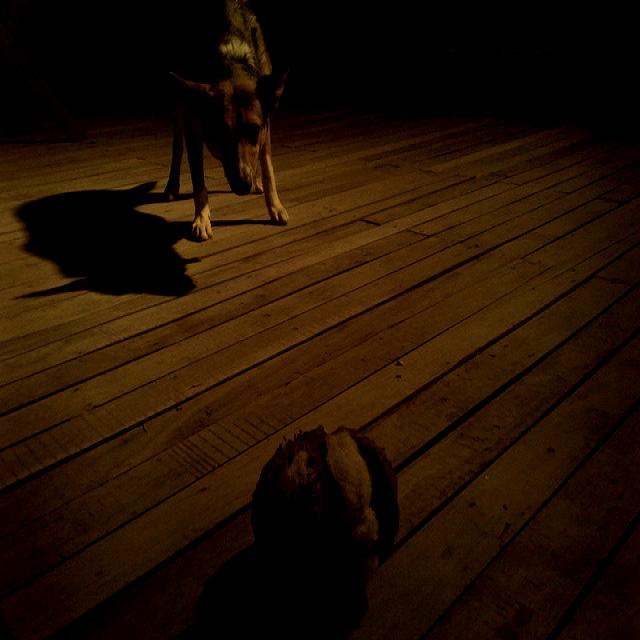Dog: (169, 21, 337, 281)
